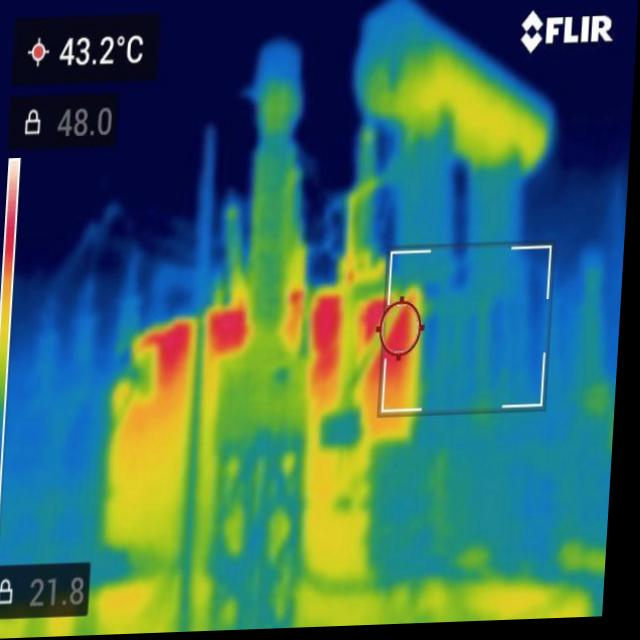Faulty: (369, 279, 445, 380), (119, 310, 202, 385), (356, 282, 397, 351), (312, 284, 344, 372), (205, 297, 253, 354)
Potentially Faulty: (276, 283, 312, 347)
